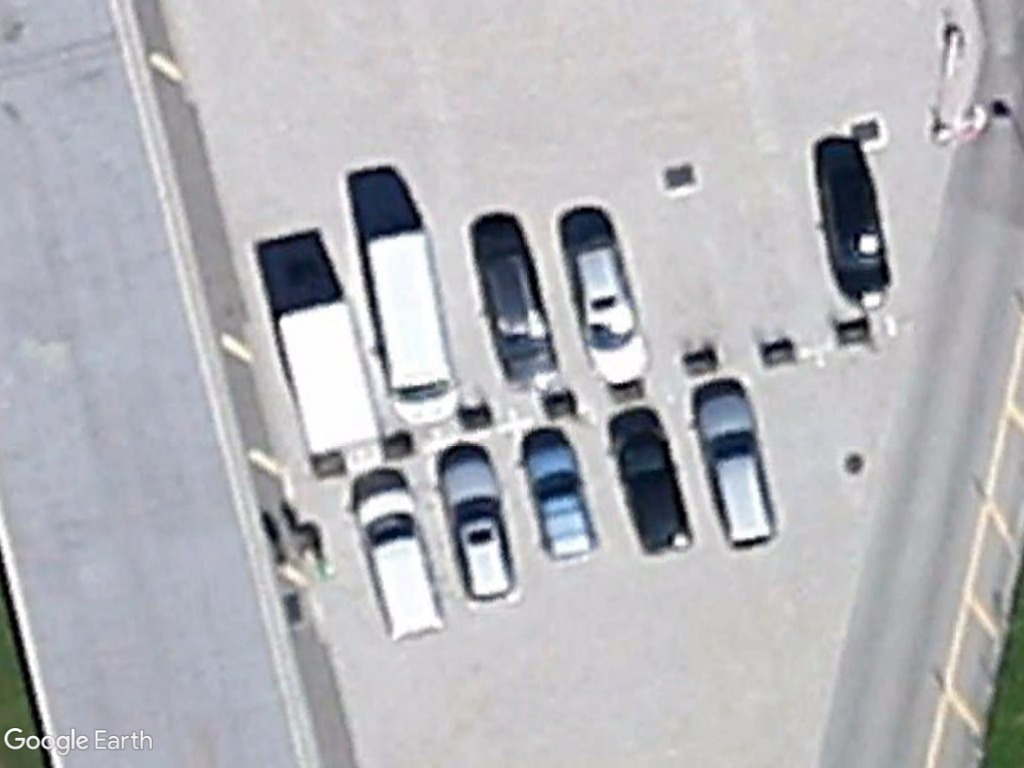car: (352, 481, 447, 646), (689, 387, 778, 552), (559, 231, 652, 386), (475, 240, 562, 393), (604, 404, 690, 558), (518, 424, 604, 574), (437, 439, 516, 601)
van: (360, 228, 463, 429)
